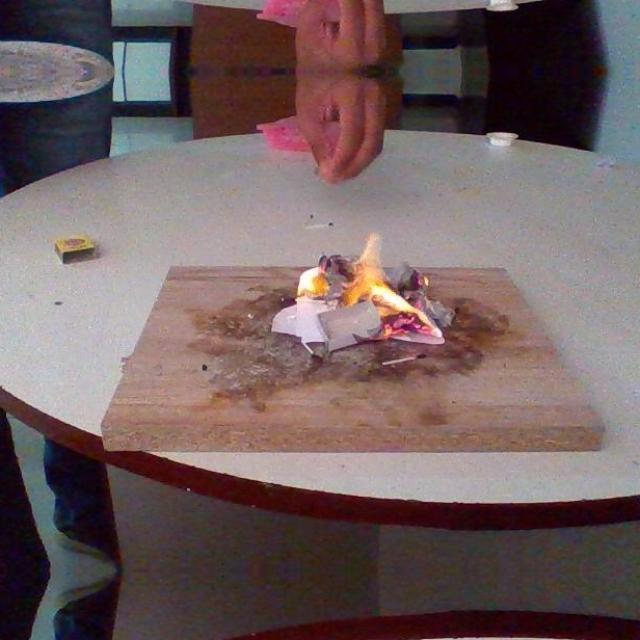smoke: (349, 236, 447, 338), (291, 266, 330, 301)
